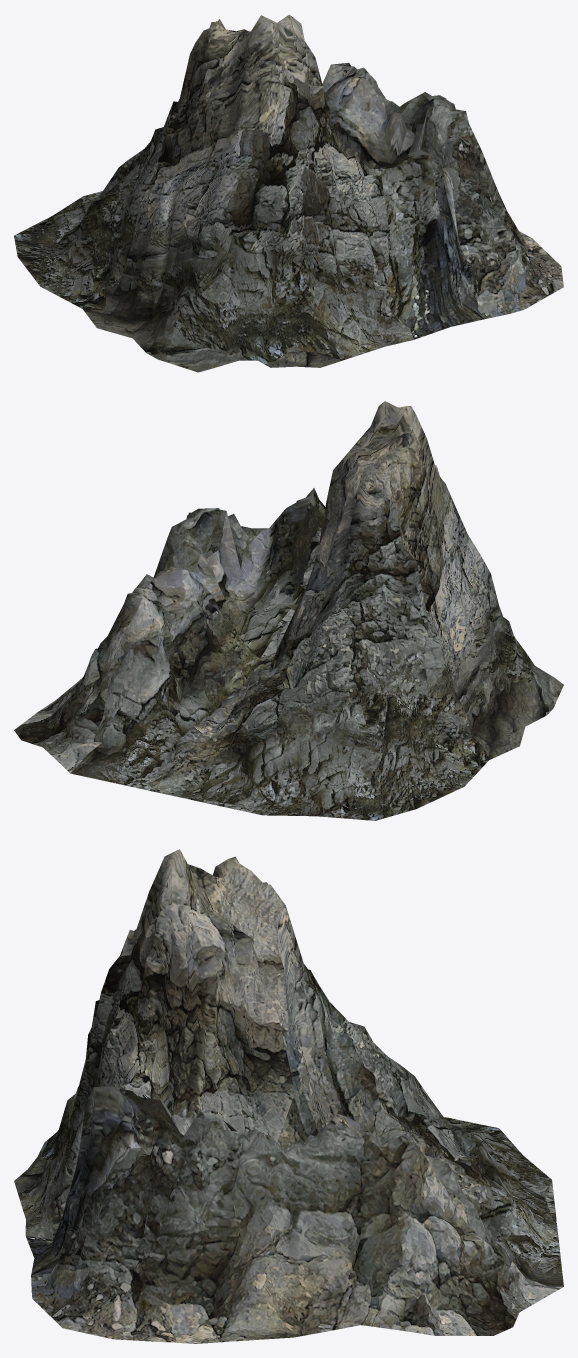
File: MounainAlps02.fbx
3 views of the same model, one above another, from view 1: azimuth 30°, elevation 25°; view 2: azimuth 150°, elevation 25°; view 3: azimuth 270°, elevation 25° (orthographic). The views are drawn at different scales.
Parts seen in each view (by area): view 1: LV_Common_Mountain_A_Alps02_SM_KSS; view 2: LV_Common_Mountain_A_Alps02_SM_KSS; view 3: LV_Common_Mountain_A_Alps02_SM_KSS.
Part boxes in pixels (<box>): LV_Common_Mountain_A_Alps02_SM_KSS: <box>14,14,563,372</box>; LV_Common_Mountain_A_Alps02_SM_KSS: <box>14,401,563,820</box>; LV_Common_Mountain_A_Alps02_SM_KSS: <box>14,849,563,1343</box>.
Bounding box in the file's own units: 121 × 81.94 × 120.
